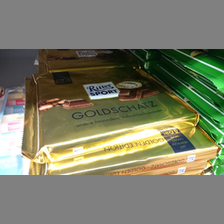chocolate: (26, 66, 199, 149)
